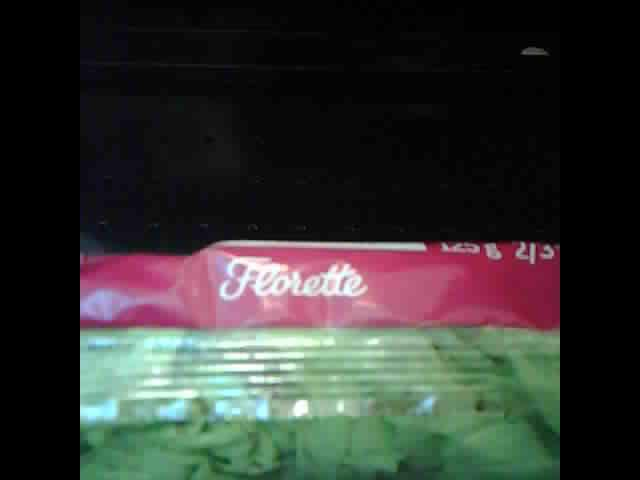florette: (83, 237, 558, 479)
